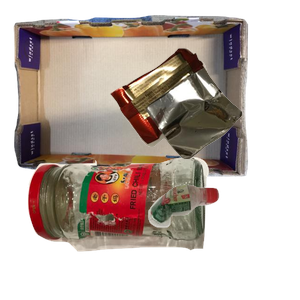cardboard: (11, 13, 251, 182)
glass: (25, 155, 227, 300)
plastic: (146, 182, 300, 300)
trash: (107, 46, 300, 198)
